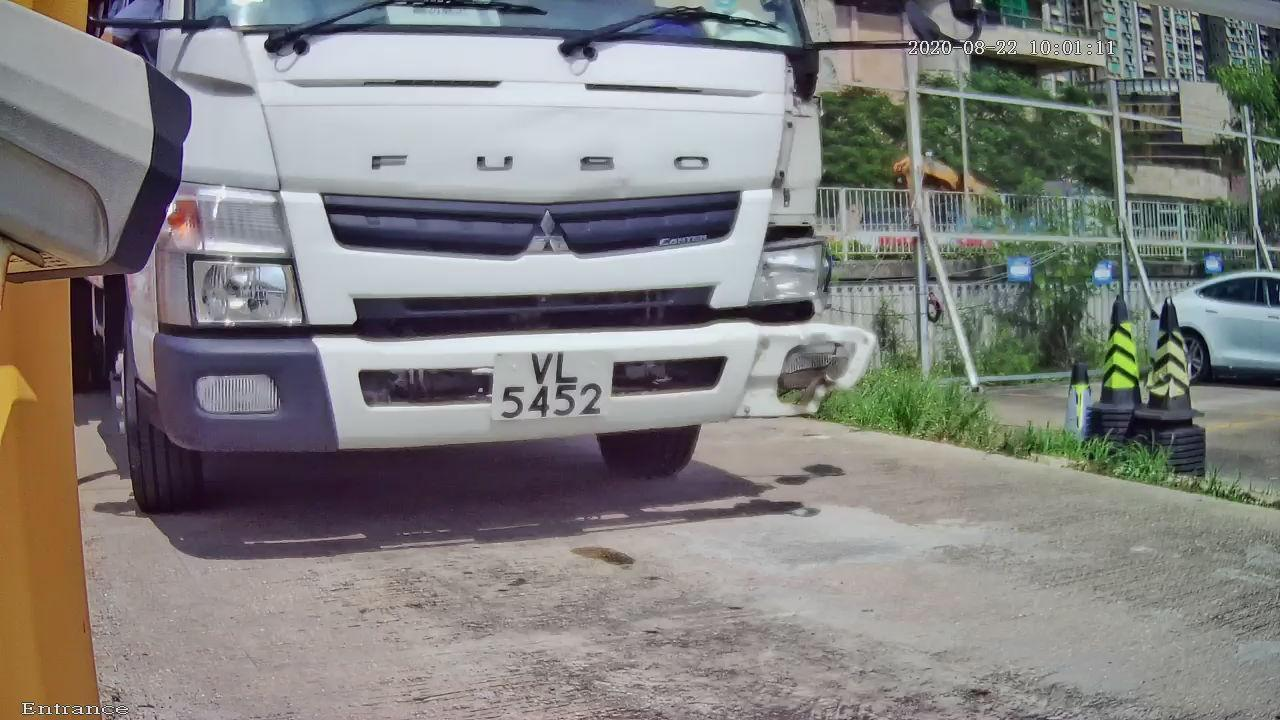License Plate: (469, 341, 635, 441)
